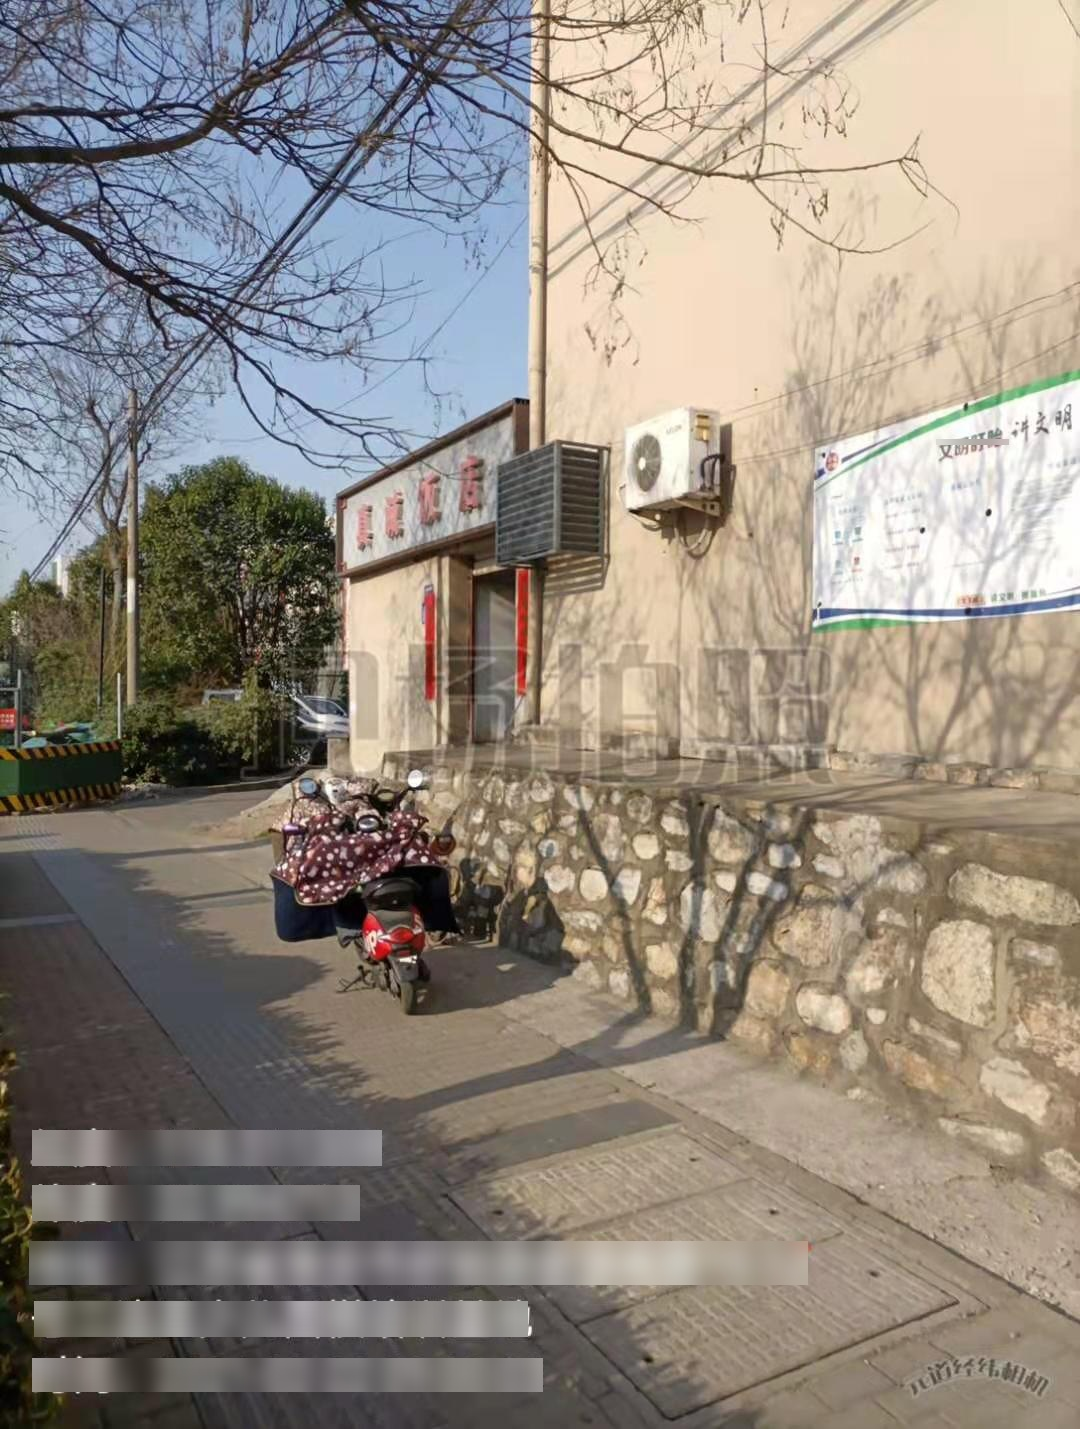good: (439, 1127, 992, 1424)
